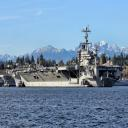Portanaves: (7, 24, 122, 88)
